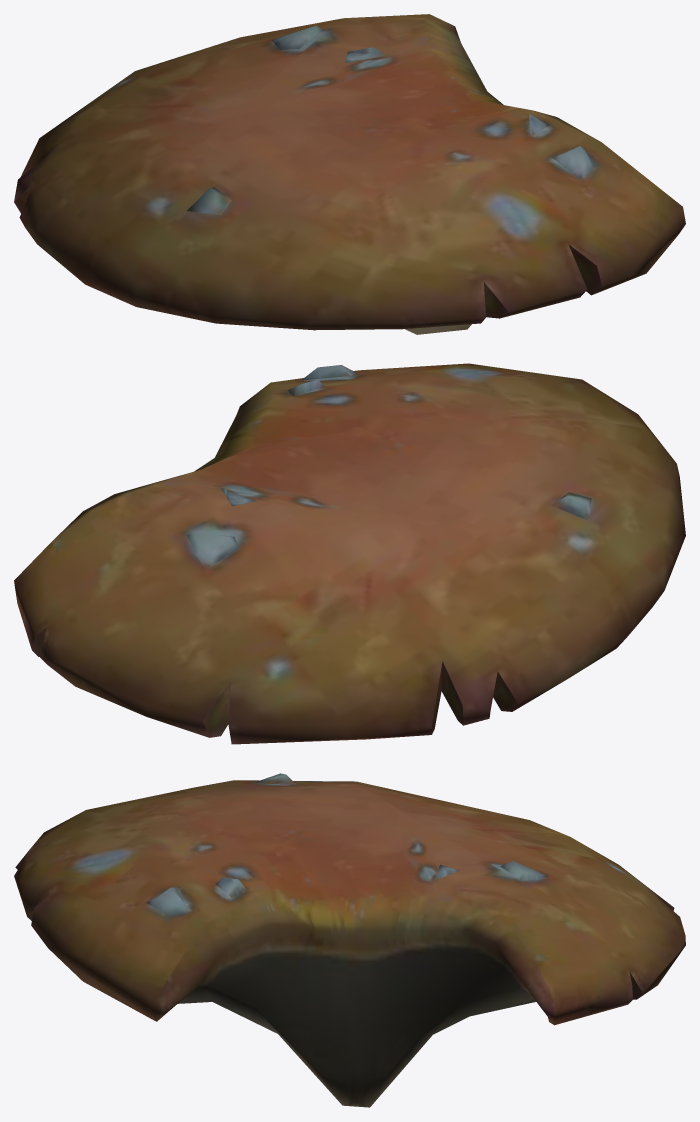
The model's file is bounce-cap.lod0.glb.
The picture shows the model from 3 angles, top to bottom: view 1: azimuth 30°, elevation 25°; view 2: azimuth 150°, elevation 25°; view 3: azimuth 270°, elevation 25°; orthographic projection. The views are drawn at different scales.
Parts seen in each view (by area): view 1: SM_RainForest_BounceCap_Side_A_LOD0.mo_MI_RainForest_BounceC; view 2: SM_RainForest_BounceCap_Side_A_LOD0.mo_MI_RainForest_BounceC; view 3: SM_RainForest_BounceCap_Side_A_LOD0.mo_MI_RainForest_BounceC.
Part boxes in pixels (box(x1,y1,x2,y2)): SM_RainForest_BounceCap_Side_A_LOD0.mo_MI_RainForest_BounceC: box(14, 14, 685, 334); SM_RainForest_BounceCap_Side_A_LOD0.mo_MI_RainForest_BounceC: box(14, 363, 685, 744); SM_RainForest_BounceCap_Side_A_LOD0.mo_MI_RainForest_BounceC: box(14, 773, 685, 1107).
Size of the model in its own units: 2.37 by 1.19 by 3.17.
1 material, 1 textured.
